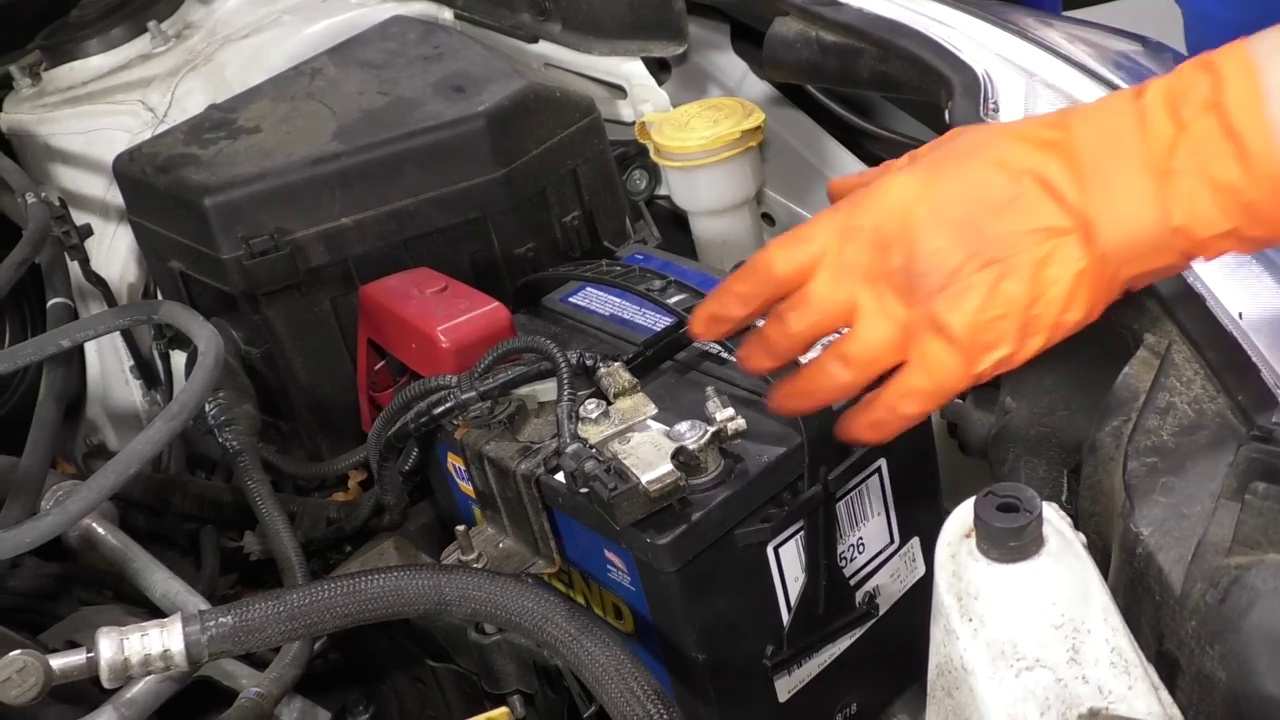battery: (410, 233, 900, 543)
neg_connected: (599, 393, 749, 505)
pos_connected: (341, 260, 524, 423)
